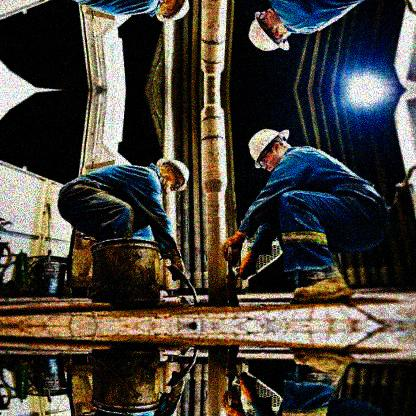helmet: (247, 128, 294, 173), (247, 6, 293, 50), (157, 157, 190, 193)
